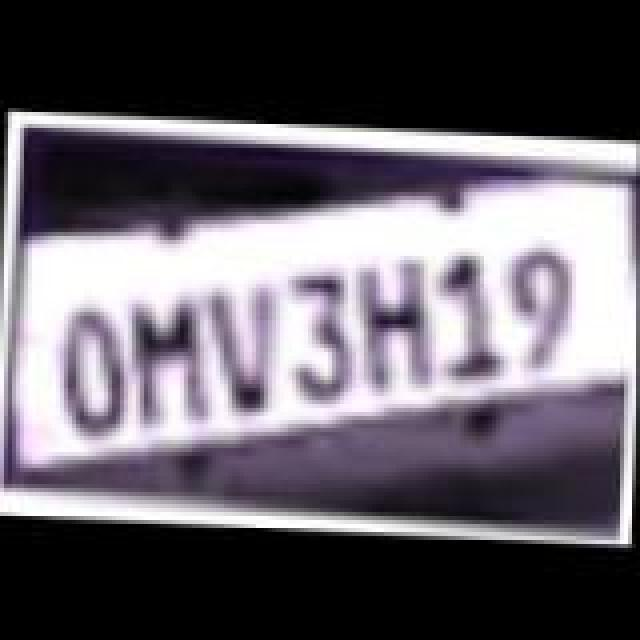1: (432, 250, 508, 382)
3: (284, 264, 360, 400)
9: (504, 238, 580, 366)
H: (352, 248, 436, 388)
M: (126, 288, 210, 424)
O: (54, 300, 130, 432)
V: (202, 276, 282, 412)
